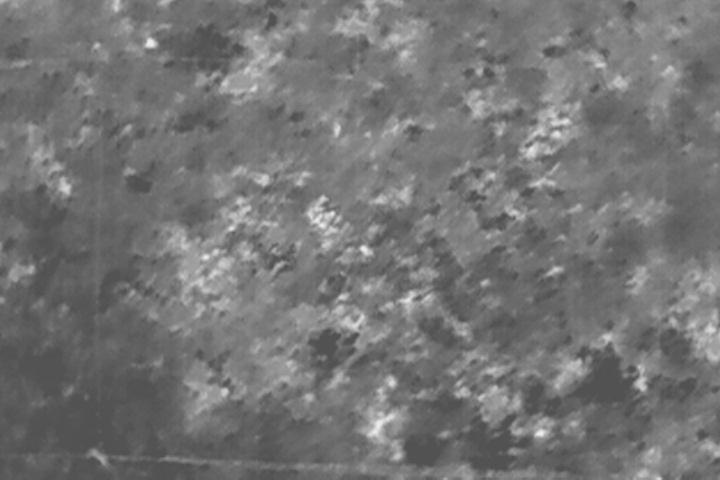landmine: (305, 189, 356, 241)
